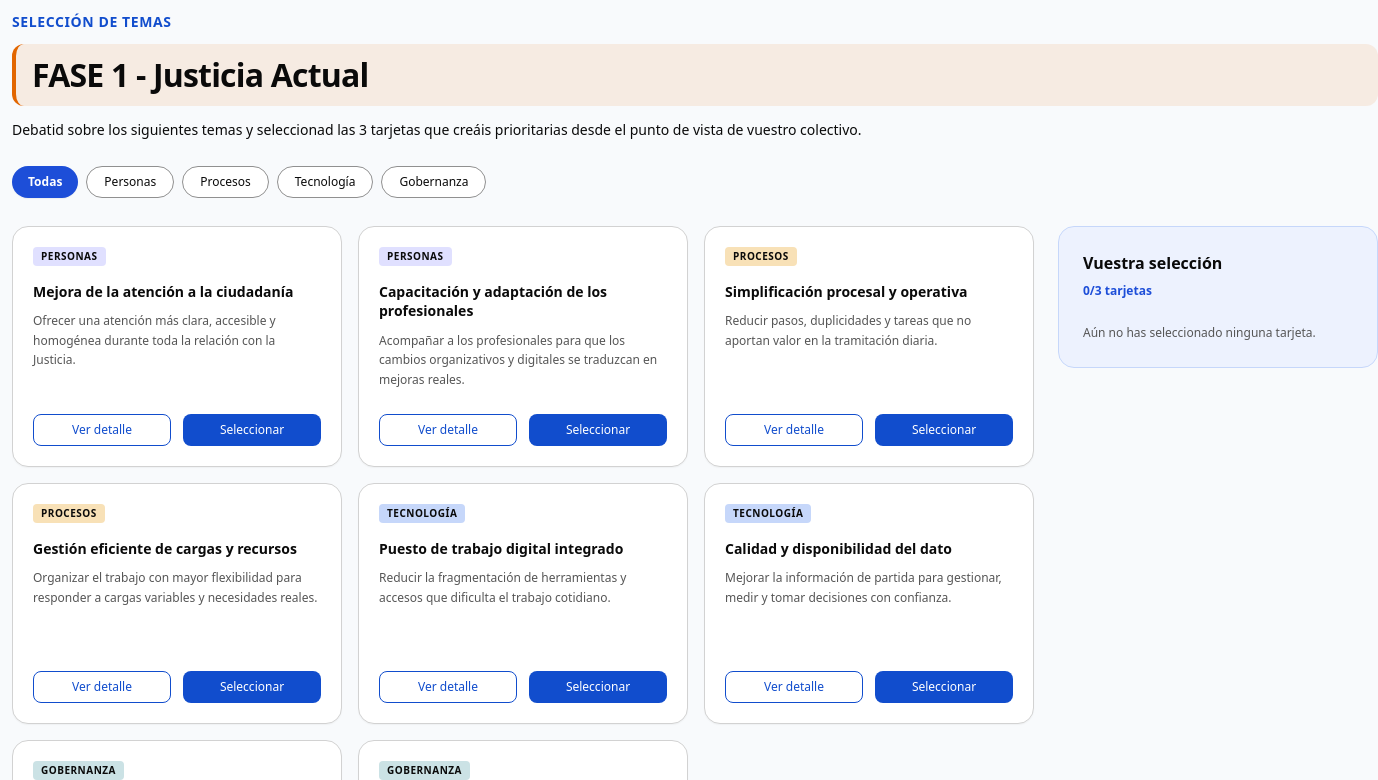
Test: componentes principales › filtra tarjetas por categoría dentro del explorador
Click the button "Personas".
click(130, 182)  # box [86, 166, 174, 198]
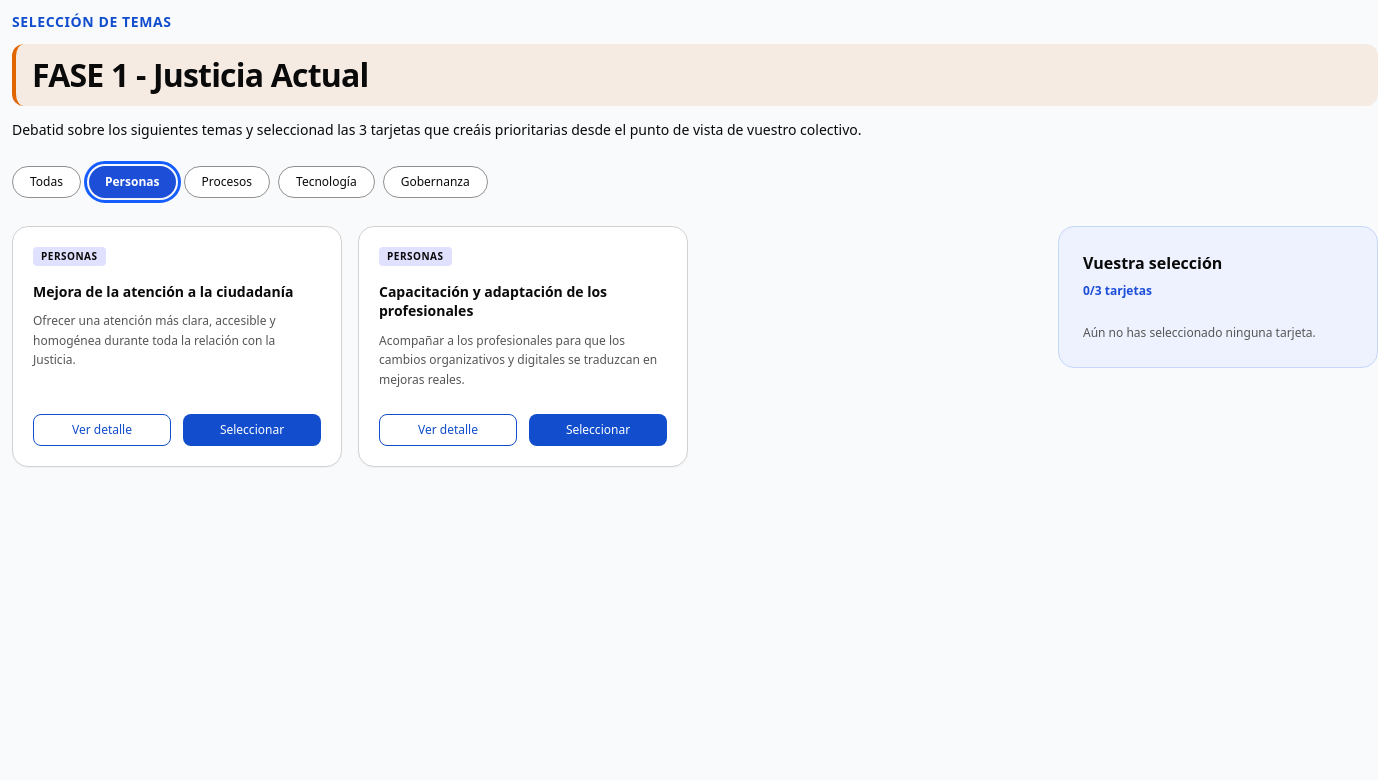
Expected: the heading "Mejora de la atención a la ciudadanía" is shown, [33, 282, 321, 301]
Expected: the heading "Simplificación procesal" is gone
